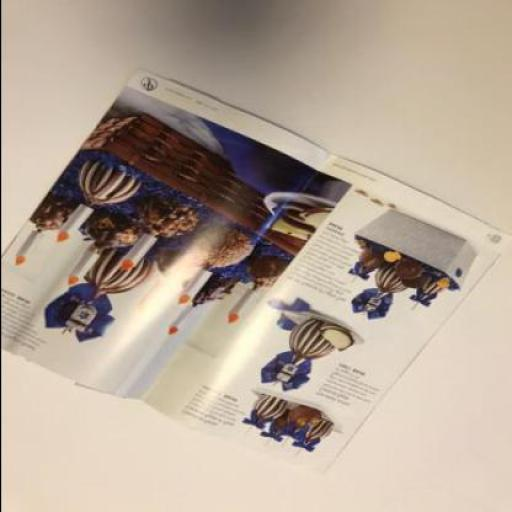paper: (1, 70, 511, 478)
